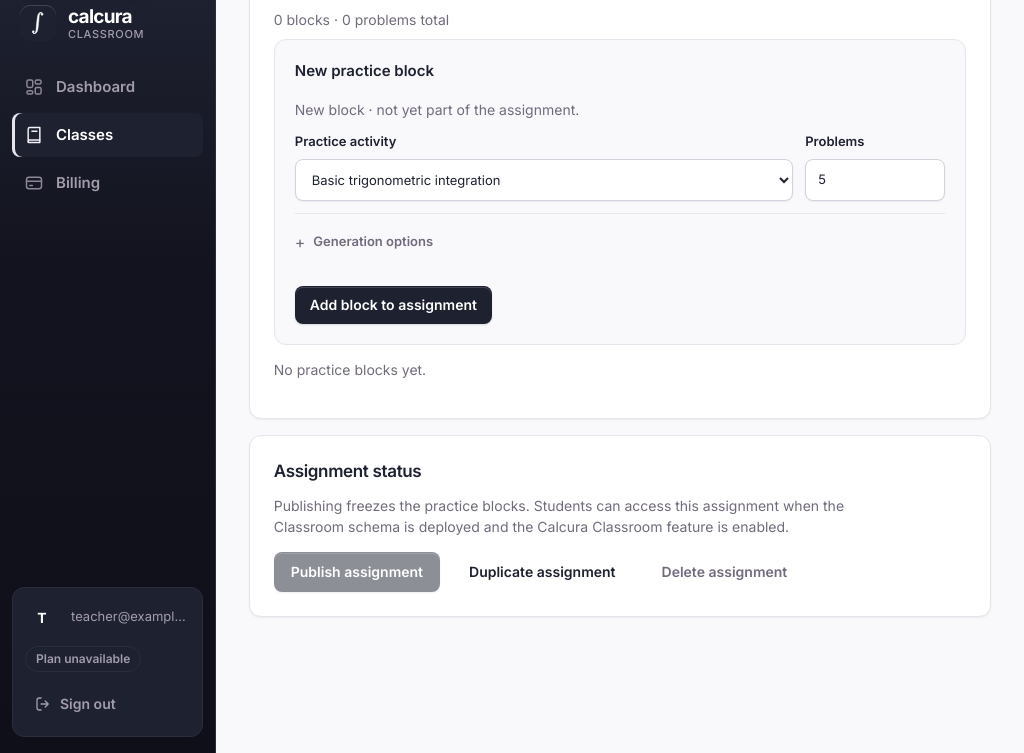
Test: teacher assignment workflow › checks delete eligibility and requires explicit confirmation for a draft
(page scrolled)
Click the button "Delete assignment" at (724, 572), box x1=644 y1=552 x2=804 y2=592
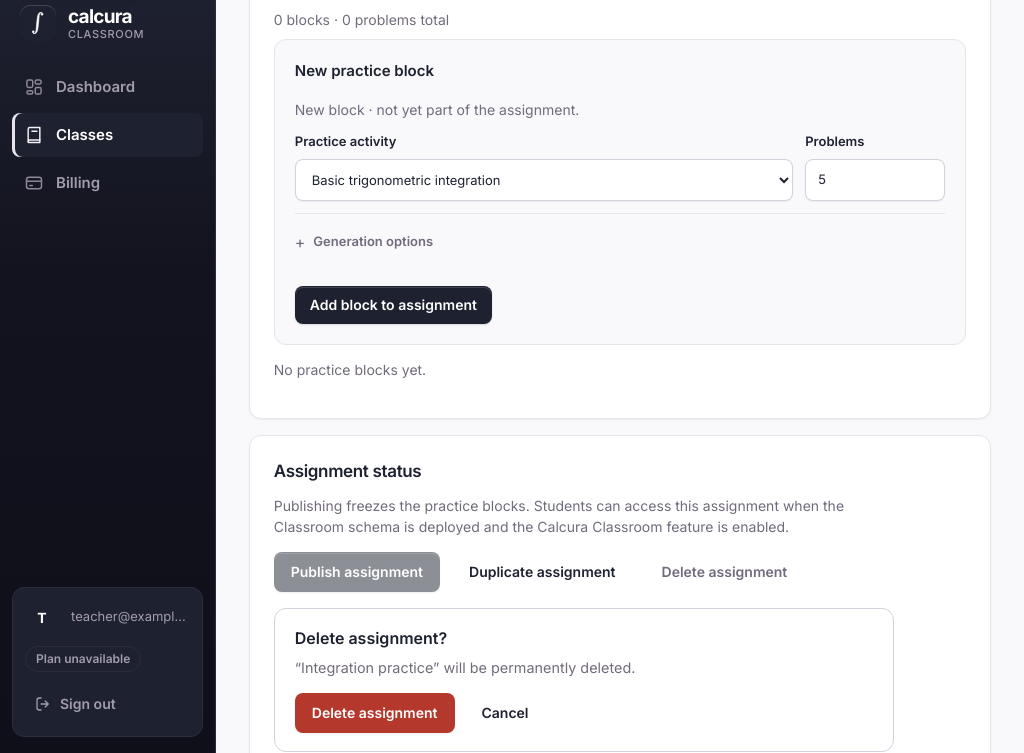
Click the button "Cancel" at (505, 713), box x1=464 y1=693 x2=546 y2=733
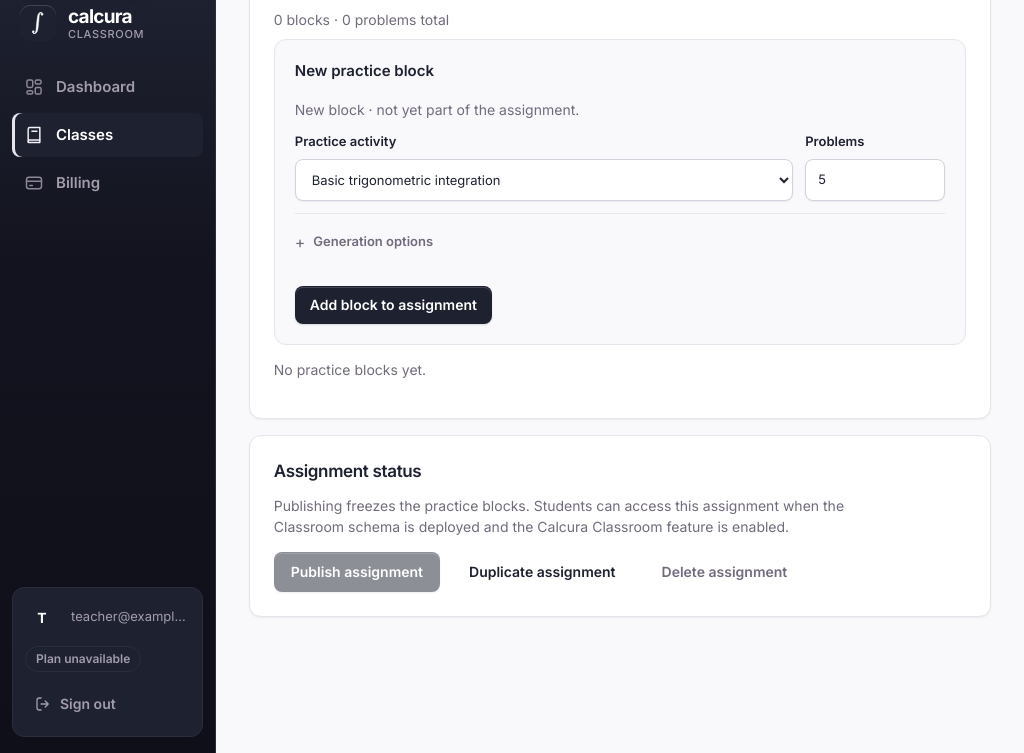
expect the element "Delete assignment?" is not shown: met
Click the button "Delete assignment" at (724, 572), box x1=644 y1=552 x2=804 y2=592
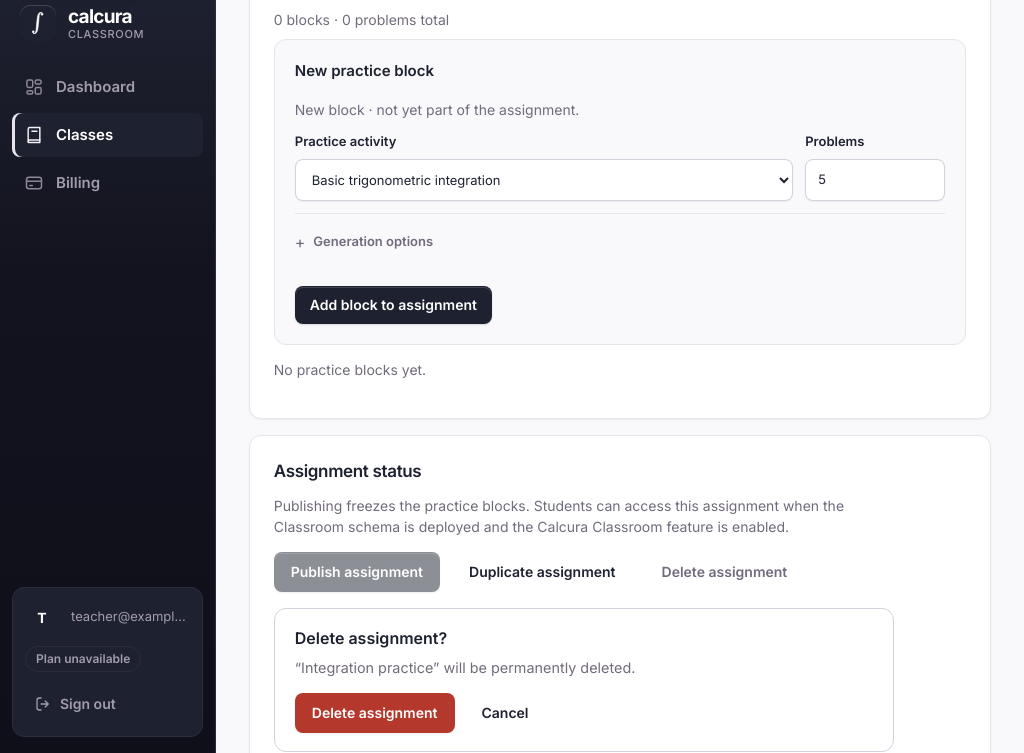
Click the button "Delete assignment" below "Delete assignment?" at (375, 713), box x1=295 y1=693 x2=455 y2=733
(page scrolled)
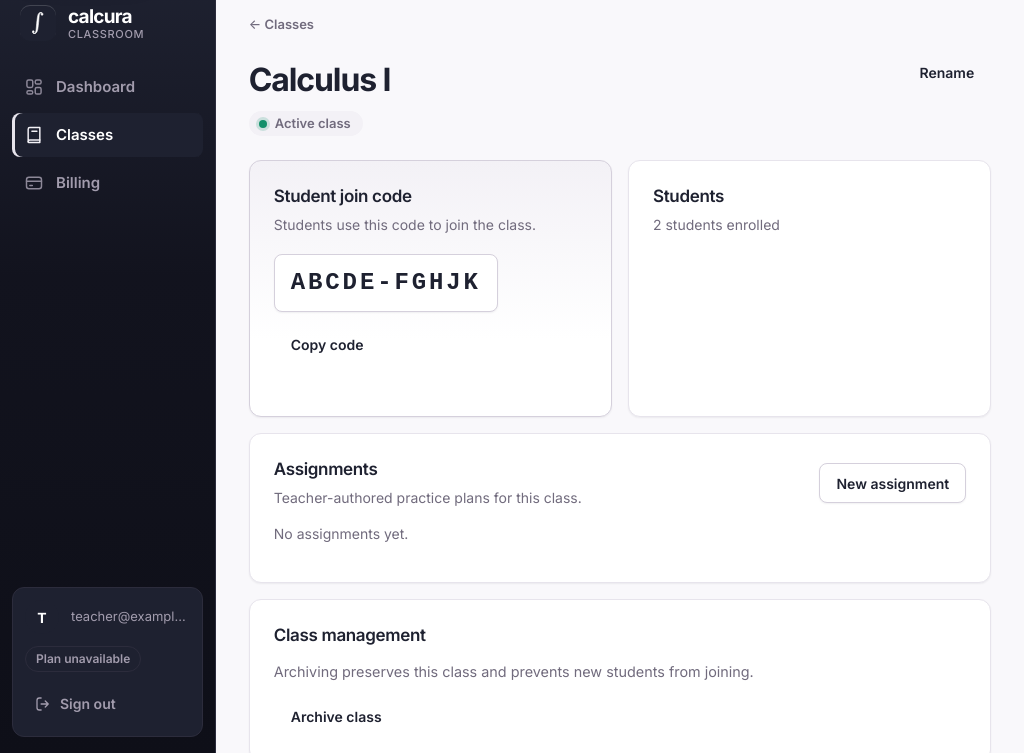
expect the heading "Assignments" is shown: met, box x1=274 y1=459 x2=377 y2=479
